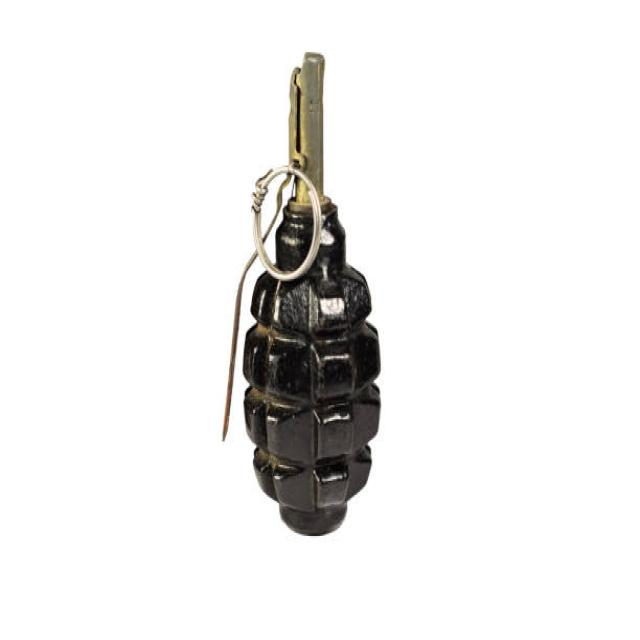grenade: (215, 43, 384, 546)
